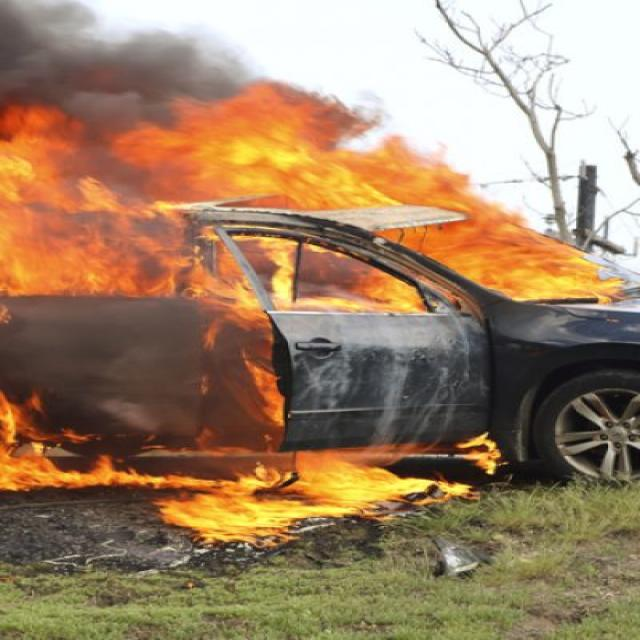fire: (149, 211, 428, 432), (130, 433, 498, 548), (379, 134, 627, 303), (150, 80, 380, 212), (0, 98, 147, 295), (0, 394, 128, 491)
